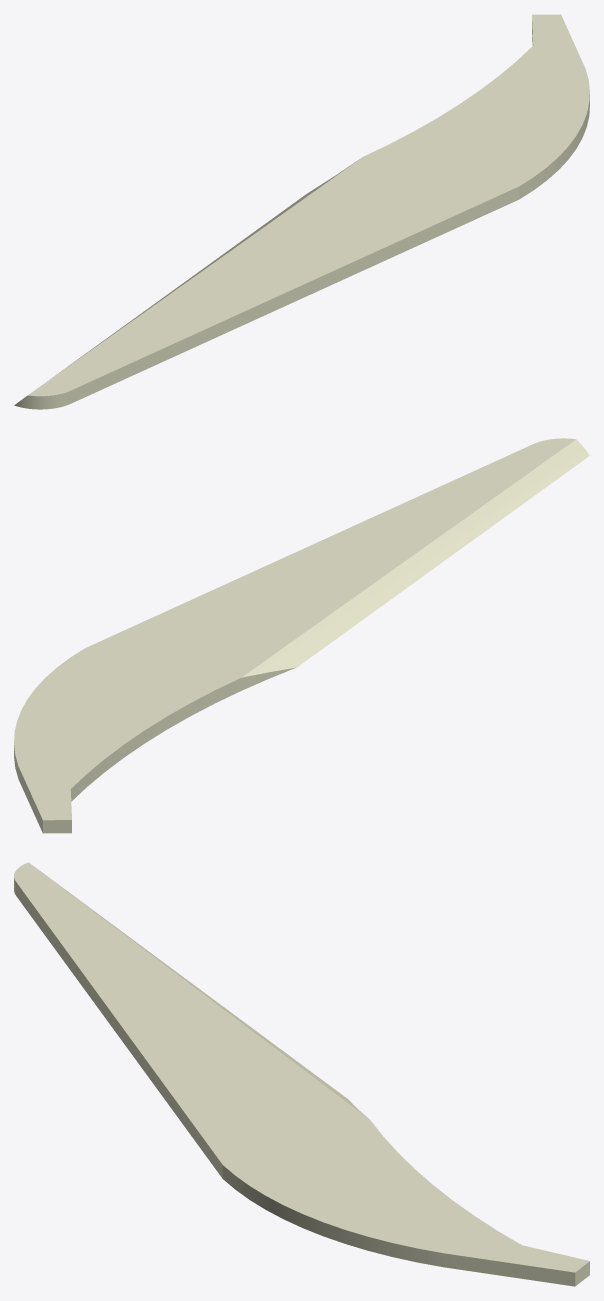
The model's file is original-6.obj.
3 renders of one model, top to bottom at view 1: azimuth 30°, elevation 25°; view 2: azimuth 210°, elevation 25°; view 3: azimuth 270°, elevation 25°, orthographic. The views are drawn at different scales.
Parts seen in each view (by area): view 1: mesh4/mesh4-geometry#mesh4-geometry; view 2: mesh4/mesh4-geometry#mesh4-geometry; view 3: mesh4/mesh4-geometry#mesh4-geometry.
Part boxes in pixels (x1,y1,x2,y2): mesh4/mesh4-geometry#mesh4-geometry: (14, 14, 589, 409); mesh4/mesh4-geometry#mesh4-geometry: (14, 438, 589, 833); mesh4/mesh4-geometry#mesh4-geometry: (14, 862, 589, 1286).
Bounding box in the file's own units: 1.19 × 0.0188 × 0.6999.
